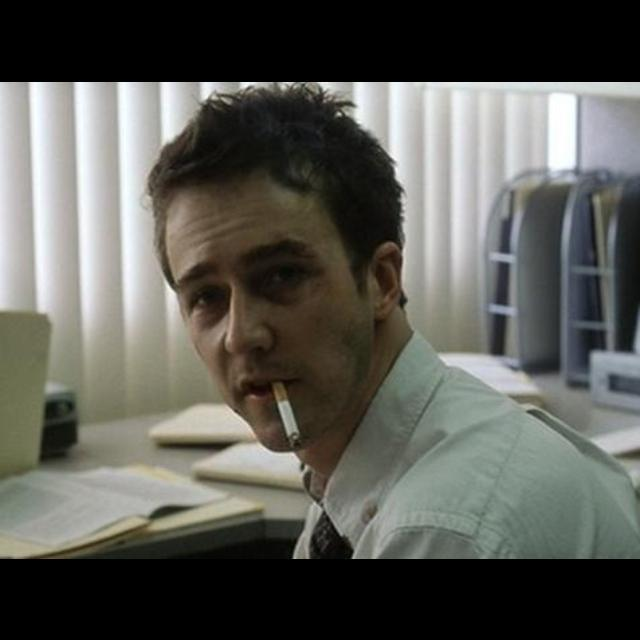rokok: (264, 376, 308, 448)
